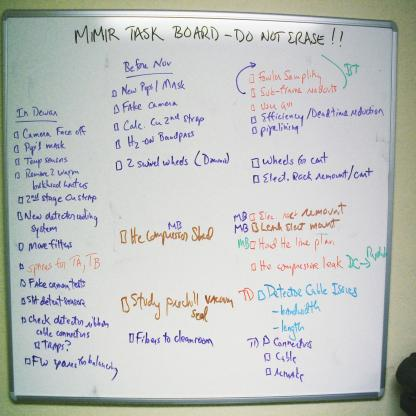Handwritten text: (63, 21, 328, 53), (128, 283, 236, 322), (126, 211, 216, 255), (22, 310, 111, 352), (256, 199, 348, 233), (128, 322, 216, 354), (261, 166, 374, 190), (21, 204, 103, 236), (120, 149, 232, 172), (259, 107, 386, 125), (259, 251, 347, 275), (120, 127, 204, 150), (268, 282, 364, 301), (20, 254, 105, 275), (253, 65, 327, 87), (21, 186, 104, 205), (117, 76, 186, 97), (22, 289, 87, 311), (24, 273, 91, 293), (122, 114, 211, 129), (117, 52, 177, 74), (20, 236, 79, 257), (259, 236, 340, 251), (254, 85, 340, 99), (260, 150, 334, 166), (21, 124, 87, 141), (14, 101, 67, 122), (273, 298, 323, 320), (28, 354, 117, 366), (119, 98, 183, 113), (271, 367, 314, 389), (28, 177, 90, 191), (261, 122, 305, 141), (274, 335, 315, 353), (22, 139, 65, 155), (20, 153, 69, 167), (22, 167, 78, 179), (279, 317, 309, 339), (252, 98, 296, 111), (273, 349, 305, 365)
Whiteboard: (0, 6, 403, 409)
